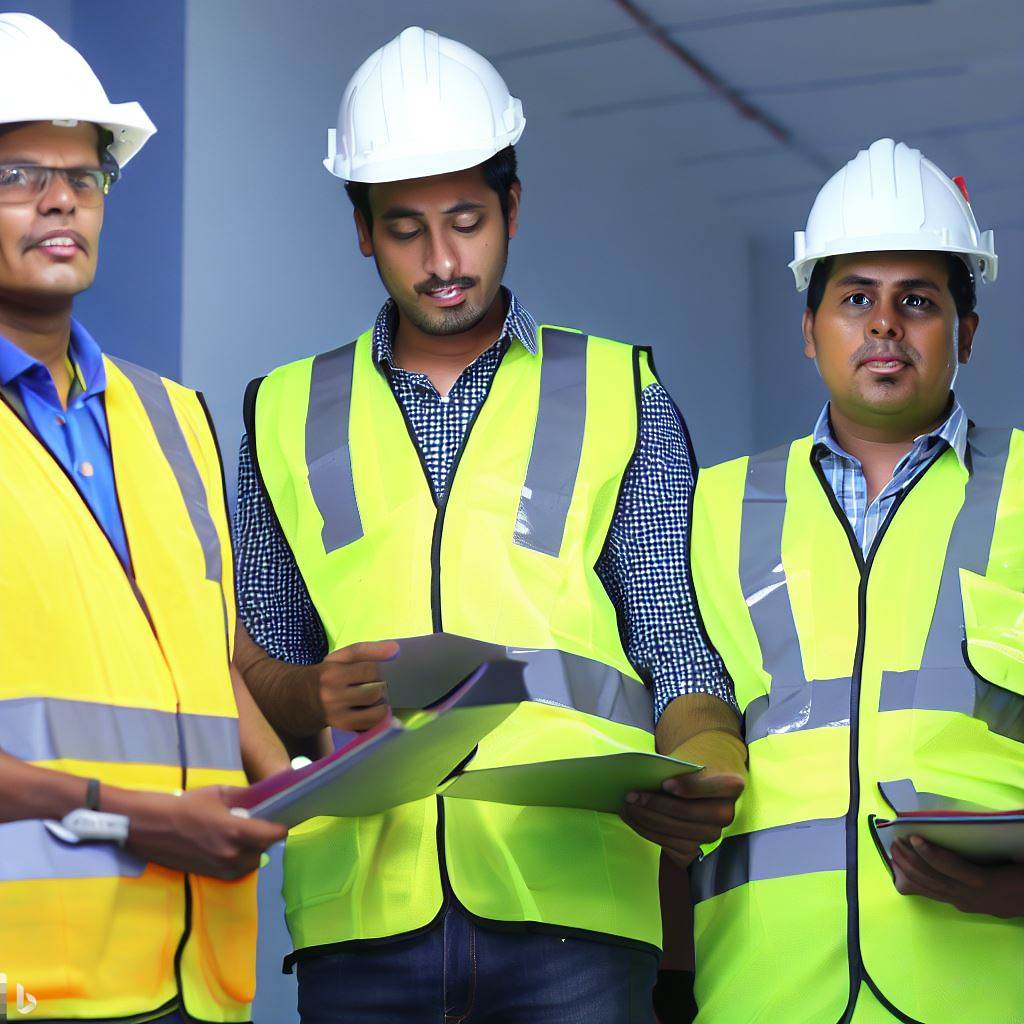Helmet: (315, 18, 541, 342), (777, 131, 1003, 442), (1, 1, 170, 316)
Reflective vest: (246, 322, 680, 959), (686, 429, 1024, 1024), (1, 356, 259, 988)
